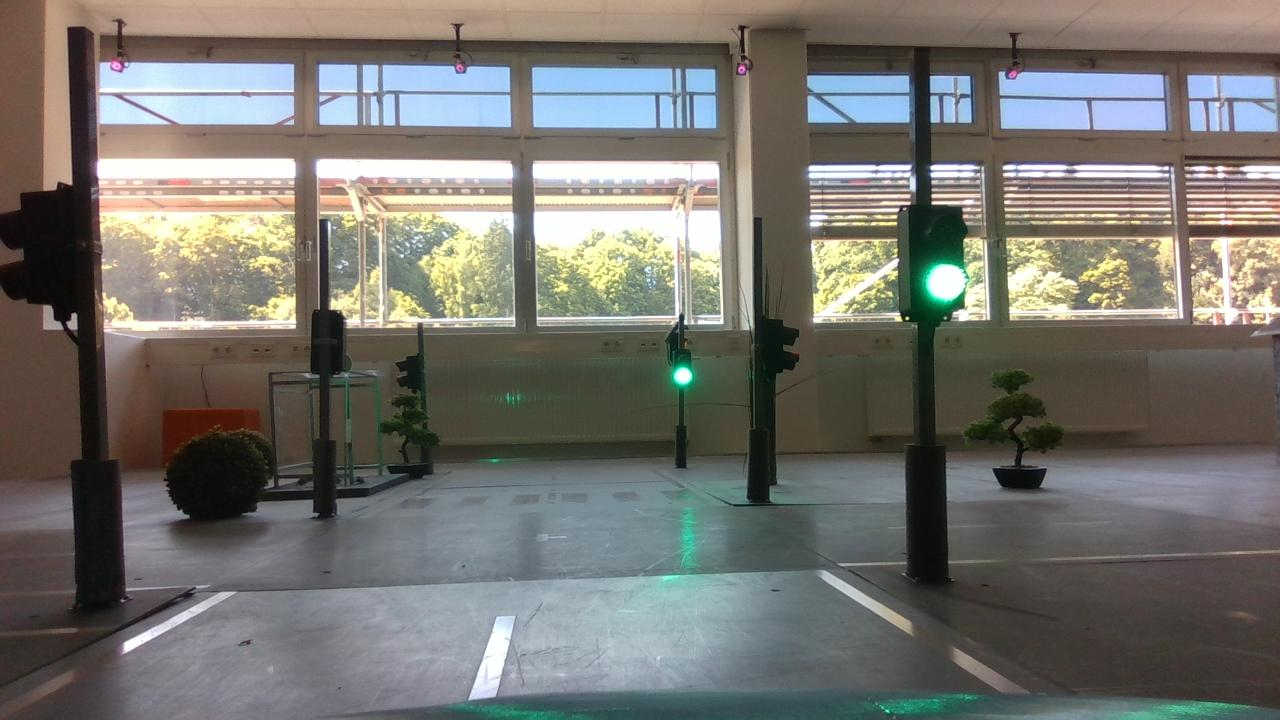traffic_light_green: (884, 197, 976, 326)
